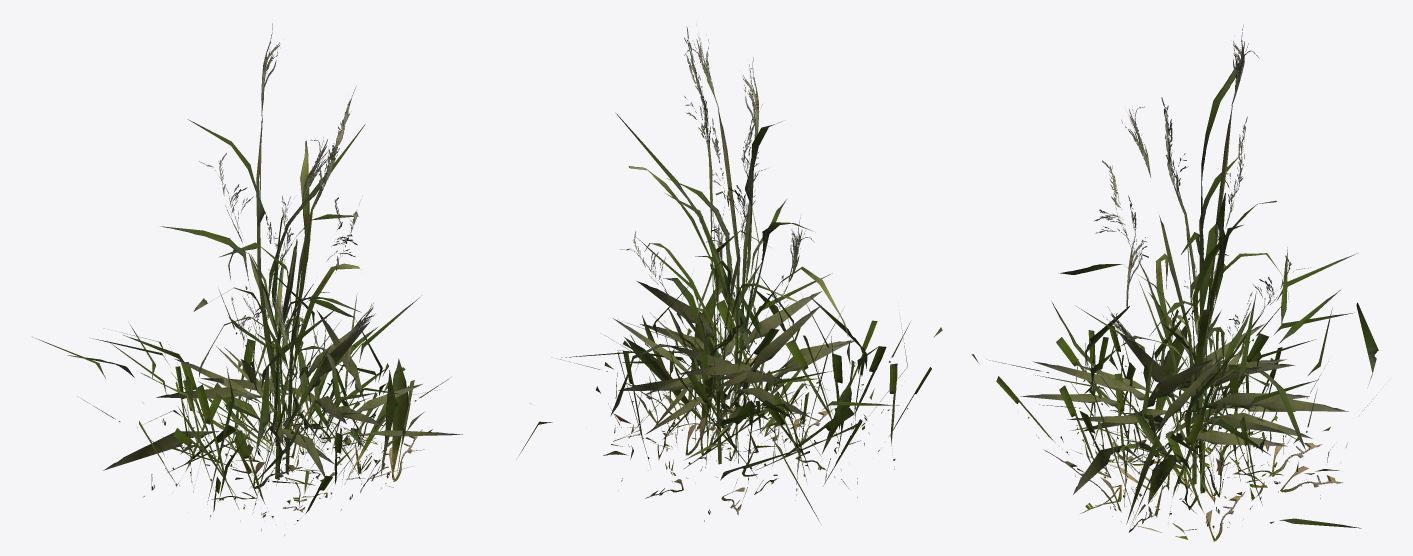
The model's file is herbe.glb.
3 views of the same model, side by side, from view 1: azimuth 30°, elevation 25°; view 2: azimuth 150°, elevation 25°; view 3: azimuth 270°, elevation 25° (orthographic). The views are drawn at different scales.
Parts seen in each view (by area): view 1: grass_medium_01_large_a_LOD0, grass_medium_01_mid_a_LOD0, grass_medium_01_tall_b_LOD0, grass_medium_01_tall_a_LOD0, grass_medium_01_large_c_LOD0; view 2: grass_medium_01_large_a_LOD0, grass_medium_01_mid_a_LOD0, grass_medium_01_tall_a_LOD0, grass_medium_01_tall_b_LOD0, grass_medium_01_large_c_LOD0; view 3: grass_medium_01_large_a_LOD0, grass_medium_01_mid_a_LOD0, grass_medium_01_tall_a_LOD0, grass_medium_01_tall_b_LOD0, grass_medium_01_large_c_LOD0.
Part boxes in pixels (left/top/right/bottom): grass_medium_01_large_a_LOD0: left=33, top=261, right=450, bottom=535; grass_medium_01_mid_a_LOD0: left=103, top=204, right=462, bottom=494; grass_medium_01_tall_b_LOD0: left=193, top=86, right=359, bottom=474; grass_medium_01_tall_a_LOD0: left=160, top=23, right=365, bottom=479; grass_medium_01_large_c_LOD0: left=123, top=307, right=432, bottom=512; grass_medium_01_large_a_LOD0: left=516, top=236, right=942, bottom=521; grass_medium_01_mid_a_LOD0: left=613, top=118, right=854, bottom=521; grass_medium_01_tall_a_LOD0: left=610, top=37, right=811, bottom=463; grass_medium_01_tall_b_LOD0: left=628, top=27, right=848, bottom=464; grass_medium_01_large_c_LOD0: left=530, top=263, right=899, bottom=515; grass_medium_01_large_a_LOD0: left=971, top=230, right=1378, bottom=530; grass_medium_01_mid_a_LOD0: left=1020, top=195, right=1348, bottom=494; grass_medium_01_tall_a_LOD0: left=1058, top=24, right=1310, bottom=485; grass_medium_01_tall_b_LOD0: left=1084, top=97, right=1289, bottom=493; grass_medium_01_large_c_LOD0: left=1035, top=309, right=1342, bottom=541.
Size of the model in its own units: 0.2755 by 0.3212 by 0.2585.
Materials: 1 (1 with a texture image).
